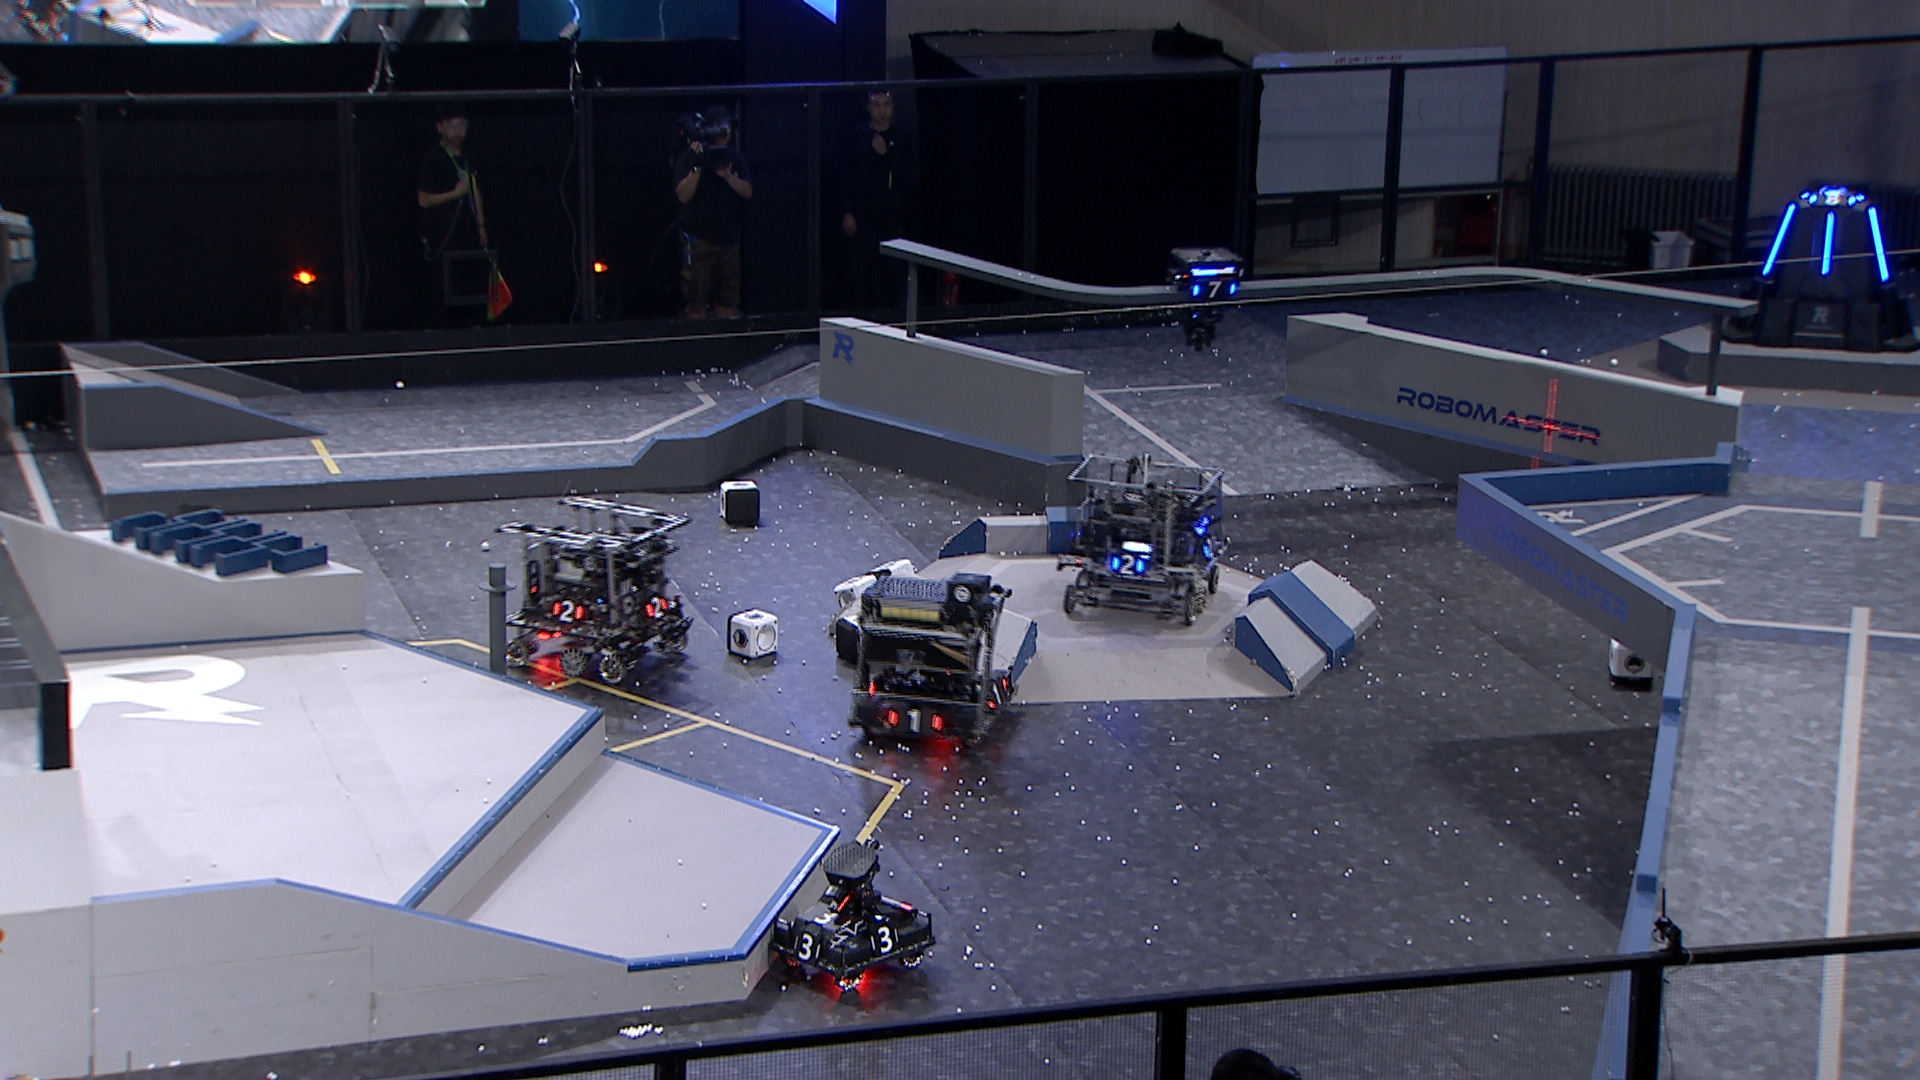armor: (1756, 200, 1799, 278), (1865, 204, 1892, 285), (884, 708, 945, 736), (1818, 211, 1837, 276), (1188, 278, 1240, 301), (793, 930, 823, 964), (807, 905, 852, 927), (1807, 190, 1859, 208), (1109, 551, 1145, 578), (869, 924, 901, 953), (553, 599, 585, 626), (986, 675, 1010, 712), (644, 591, 669, 618), (1201, 534, 1218, 560)
base: (1718, 186, 1917, 356)
car: (496, 495, 686, 688), (1054, 455, 1226, 629), (849, 572, 1017, 752), (771, 840, 939, 996)
watcher: (1162, 245, 1242, 347)
